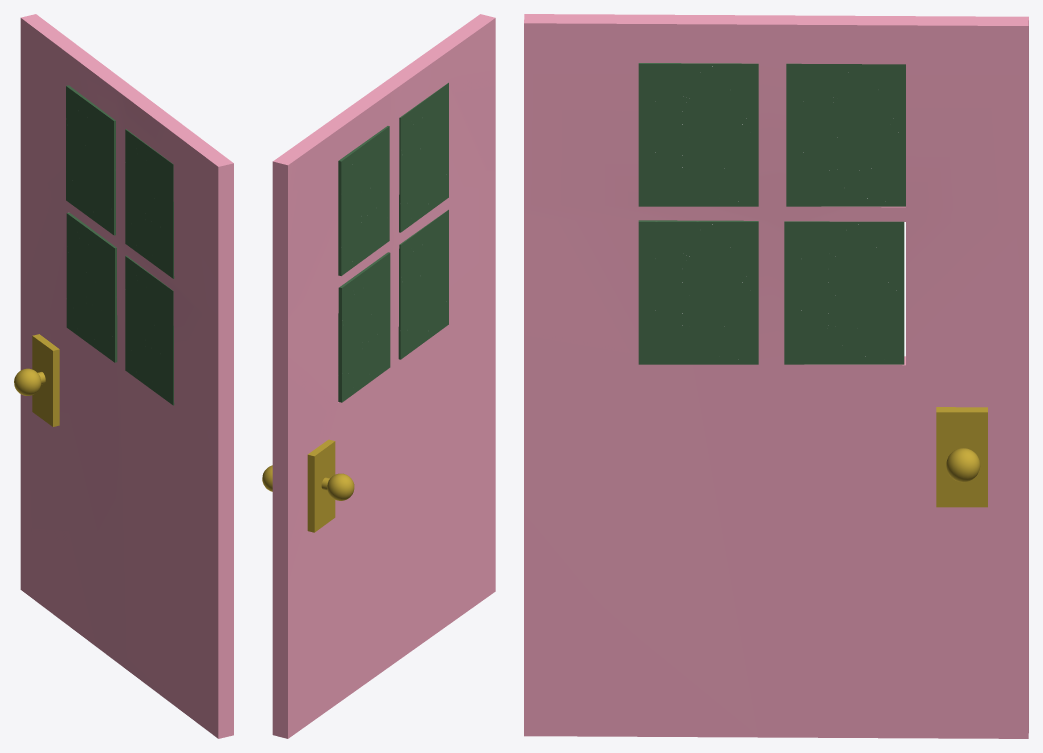
File: puertaCocina.obj
3 renders of one model, left to right at view 1: azimuth 30°, elevation 25°; view 2: azimuth 150°, elevation 25°; view 3: azimuth 270°, elevation 25°, orthographic. The views are drawn at different scales.
Visible parts, largest first — view 1: pasted__pCube34; view 2: pasted__pCube34; view 3: pasted__pCube34.
Boxes of the visible parts, x1,y1,x2,y2 form: pasted__pCube34: (14, 14, 233, 738); pasted__pCube34: (262, 14, 495, 738); pasted__pCube34: (524, 14, 1028, 738).
Bounding box in the file's own units: 1.55 × 10 × 6.42.
Materials: 5 (5 with a texture image).
